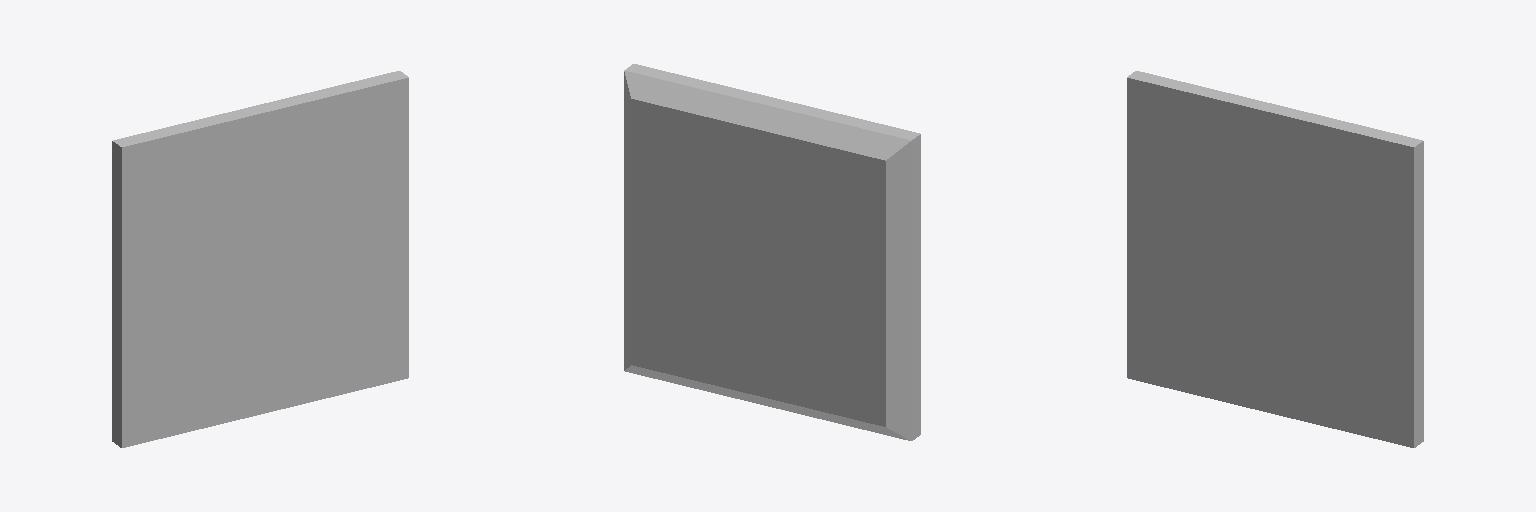
The model's file is UI_Button_Upgrade_Tile.obj.
3 renders of one model, left to right at view 1: azimuth 30°, elevation 25°; view 2: azimuth 150°, elevation 25°; view 3: azimuth 330°, elevation 25°, orthographic.
Parts seen in each view (by area): view 1: UI_Button_Upgrade_Tile_Cube.001; view 2: UI_Button_Upgrade_Tile_Cube.001; view 3: UI_Button_Upgrade_Tile_Cube.001.
Boxes of the visible parts, <box> form: UI_Button_Upgrade_Tile_Cube.001: <box>112,71,408,447</box>; UI_Button_Upgrade_Tile_Cube.001: <box>624,64,920,440</box>; UI_Button_Upgrade_Tile_Cube.001: <box>1127,71,1423,447</box>.
Bounding box in the file's own units: 3.5 × 3.5 × 0.4.